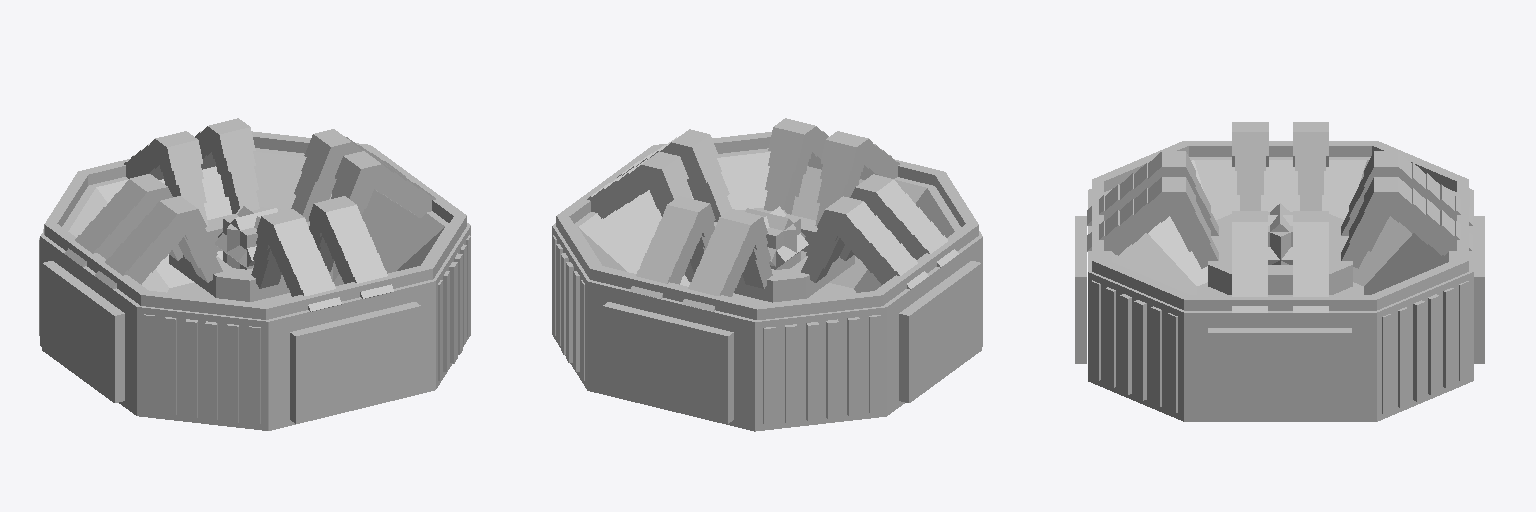
The model's file is sintezatorsanaruim.obj.
3 renders of one model, left to right at view 1: azimuth 30°, elevation 25°; view 2: azimuth 150°, elevation 25°; view 3: azimuth 270°, elevation 25°, orthographic.
Visible parts, largest first — view 1: cube.087, cube.089, cube.024, cube.002, cube.010, cube.004, cube.017, cube.033, cube.025, cube.001, cube.031, cube.065 (+28 smaller); view 2: cube.088, cube.089, cube.018, cube, cube.010, cube.004, cube.032, cube.030, cube.027, cube.003, cube.031, cube.053 (+28 smaller); view 3: cube.090, cube.009, cube.006, cube.015, cube.029, cube.034, cube.003, cube.001, cube.031, cube.087, cube.026, cube.028 (+28 smaller).
Boxes of the visible parts, <box> form: cube.087: <box>290,302,420,423</box>; cube.089: <box>42,261,124,402</box>; cube.024: <box>137,304,268,430</box>; cube.002: <box>267,280,435,430</box>; cube.010: <box>334,189,444,285</box>; cube.004: <box>40,235,137,415</box>; cube.017: <box>253,152,331,209</box>; cube.033: <box>264,264,432,319</box>; cube.025: <box>141,291,268,319</box>; cube.001: <box>96,166,231,287</box>; cube.031: <box>45,223,150,305</box>; cube.065: <box>185,319,197,418</box>; cube.088: <box>603,302,733,423</box>; cube.089: <box>899,261,981,402</box>; cube.018: <box>754,306,886,431</box>; cube: <box>588,280,754,431</box>; cube.010: <box>579,190,689,286</box>; cube.004: <box>883,237,982,415</box>; cube.032: <box>590,265,756,319</box>; cube.030: <box>691,152,770,209</box>; cube.027: <box>755,290,882,319</box>; cube.003: <box>791,166,926,288</box>; cube.031: <box>875,222,978,305</box>; cube.053: <box>806,322,819,421</box>; cube.090: <box>1208,328,1351,419</box>; cube.009: <box>1184,311,1376,421</box>; cube.006: <box>1194,160,1366,219</box>; cube.015: <box>1375,271,1473,421</box>; cube.029: <box>1088,271,1185,421</box>; cube.034: <box>1184,295,1376,310</box>; cube.003: <box>1112,233,1196,294</box>; cube.001: <box>1364,233,1448,294</box>; cube.031: <box>1184,141,1376,156</box>; cube.087: <box>1075,216,1086,363</box>; cube.026: <box>1370,257,1468,309</box>; cube.028: <box>1092,257,1190,309</box>.
Bounding box in the file's own units: 1.06 × 0.4821 × 1.06.